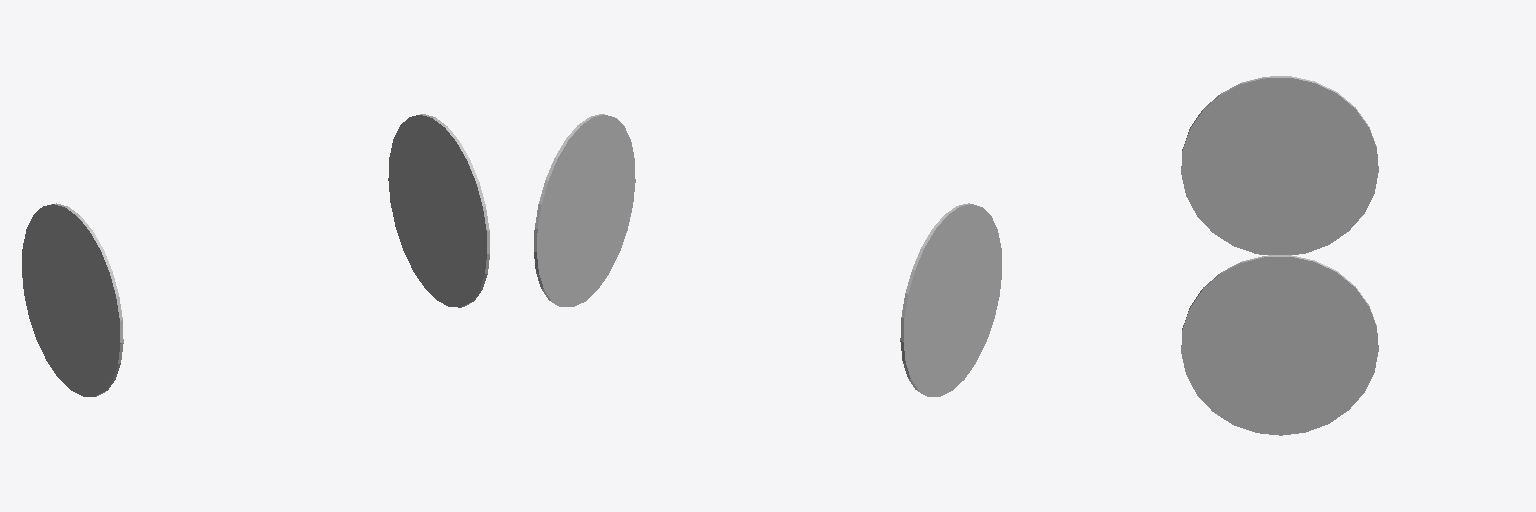
The model's file is ruote_anteriori.obj.
The picture shows the model from 3 angles: view 1: azimuth 30°, elevation 25°; view 2: azimuth 150°, elevation 25°; view 3: azimuth 270°, elevation 25°; orthographic projection.
Visible parts, largest first — view 1: Geometry.001; view 2: Geometry.001; view 3: Geometry.001.
Part boxes in pixels (x1,y1,x2,y2): Geometry.001: (22,114,489,396); Geometry.001: (534,114,1001,396); Geometry.001: (1181,76,1378,435).
Bounding box in the file's own units: 1.08 × 0.4984 × 0.499.